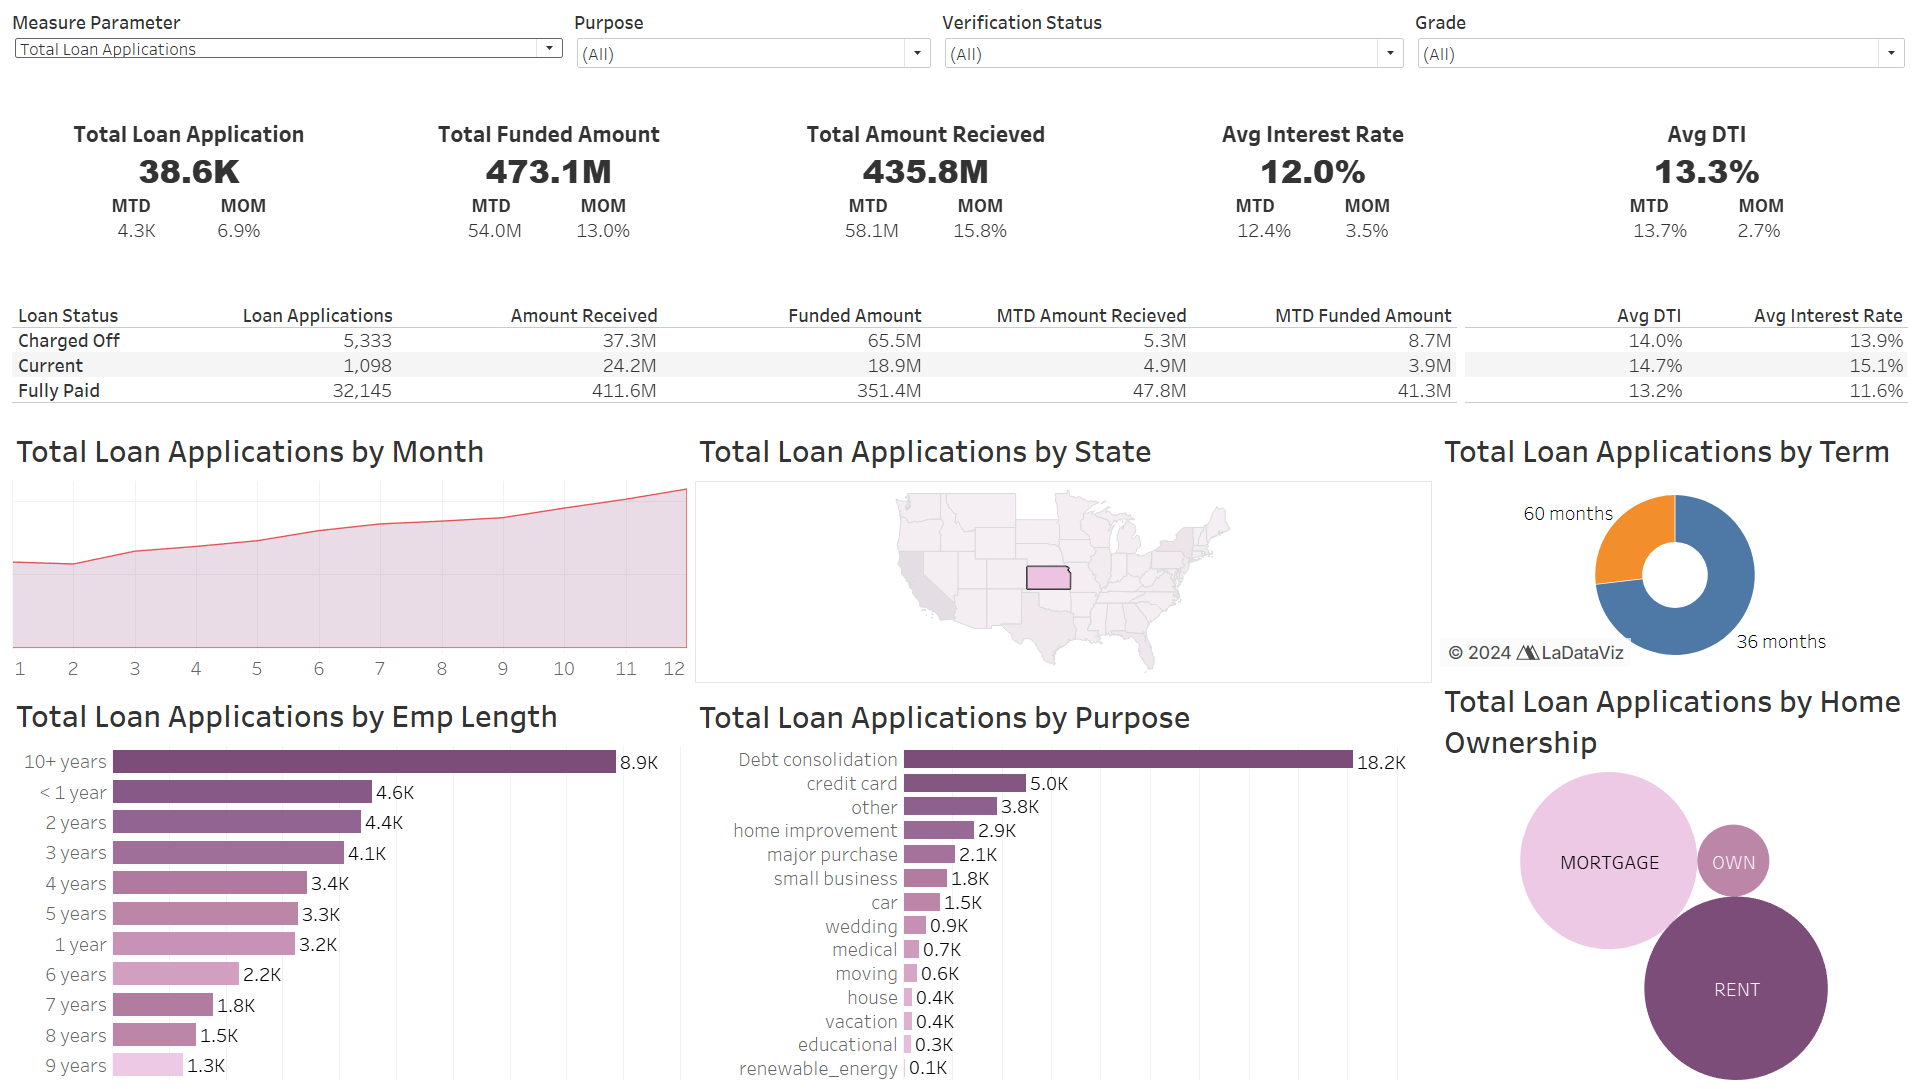

What the dashboard file says about the page in this screenshot:
{"tool":"tableau","page":{"name":"EDA BANK LOAN","canvas":[1000,1000],"units":"permille","ordinal":1},"visuals":[{"type":"parameter","param":"[Parameters].[Parameter 1]","box":[5,8.5,255,99.1]},{"type":"filter","title":"Total Loan Applications by Month","param":"[federated.1vgko2q07zxg7y16xzdwj1wbldjm].[none:purpose:nk]","box":[259.9,8.5,228.8,99.1]},{"type":"filter","title":"Total Loan Applications by Month","param":"[federated.1vgko2q07zxg7y16xzdwj1wbldjm].[none:verification_status:nk]","box":[488.8,8.5,232.6,99.1]},{"type":"filter","title":"Total Loan Applications by Month","param":"[federated.1vgko2q07zxg7y16xzdwj1wbldjm].[none:grade:nk]","box":[721.3,8.5,273.7,99.1]},{"type":"worksheet","title":"Total KPI","mark":"Automatic","box":[5,107.7,327.9,77.6]},{"type":"worksheet","title":"Average KPI","mark":"Automatic","box":[332.9,107.7,244.4,77.6]},{"type":"worksheet","title":"Average MTD + MoM","mark":"Automatic","box":[577.3,107.7,417.7,77.6]},{"type":"worksheet","title":"Total MTD + MoM","mark":"Automatic","box":[5,185.3,990,76.7]},{"type":"worksheet","title":"Loan Status","mark":"Automatic","rows":["loan_status"],"box":[5,261.9,755.6,125.5]},{"type":"worksheet","title":"Loan Status (2)","mark":"Automatic","rows":["loan_status"],"box":[760.6,261.9,234.4,125.5]},{"type":"worksheet","title":"Total Loan Applications by Month","mark":"Area","rows":["Calculation_1431581733568589826"],"cols":["issue_date"],"box":[5,387.5,355.3,241.5]},{"type":"worksheet","title":"Total Loan Applications by State","mark":"Automatic","box":[360.3,387.5,387.2,242]},{"type":"worksheet","title":"Total Loan Applications by Term","box":[747.5,387.5,247.5,229.7]},{"type":"worksheet","title":"Total Loan Application by Home Ownership","mark":"Circle","box":[747.5,617.2,247.5,374.3]},{"type":"worksheet","title":"Total Loan Applications by Emp Length","mark":"Bar","rows":["emp_length"],"cols":["Calculation_1431581733568589826"],"box":[5,629,355.3,362.5]},{"type":"worksheet","title":"Total Loan Applications by Purpose","mark":"Automatic","rows":["purpose"],"cols":["Calculation_1431581733568589826"],"box":[360.3,629.5,387.2,362]}]}

Visuals, with their boxes on the dashboard's canvas, which has no fixed pixel size, in thousandths of its width and height (x1, y1, x2, y2). These are canvas units, not pixel positions in the 1918x1089 screenshot, which may show the page scaled, cropped or inside an application window:
parameter: <box>5,8,260,108</box>
"Total Loan Applications by Month" filter: <box>260,8,489,108</box>
"Total Loan Applications by Month" filter: <box>489,8,721,108</box>
"Total Loan Applications by Month" filter: <box>721,8,995,108</box>
"Total KPI" worksheet: <box>5,108,333,185</box>
"Average KPI" worksheet: <box>333,108,577,185</box>
"Average MTD + MoM" worksheet: <box>577,108,995,185</box>
"Total MTD + MoM" worksheet: <box>5,185,995,262</box>
"Loan Status" worksheet: <box>5,262,761,387</box>
"Loan Status (2)" worksheet: <box>761,262,995,387</box>
"Total Loan Applications by Month" worksheet (Area marks): <box>5,388,360,629</box>
"Total Loan Applications by State" worksheet: <box>360,388,748,630</box>
"Total Loan Applications by Term" worksheet: <box>748,388,995,617</box>
"Total Loan Application by Home Ownership" worksheet (Circle marks): <box>748,617,995,992</box>
"Total Loan Applications by Emp Length" worksheet (Bar marks): <box>5,629,360,992</box>
"Total Loan Applications by Purpose" worksheet: <box>360,630,748,992</box>
